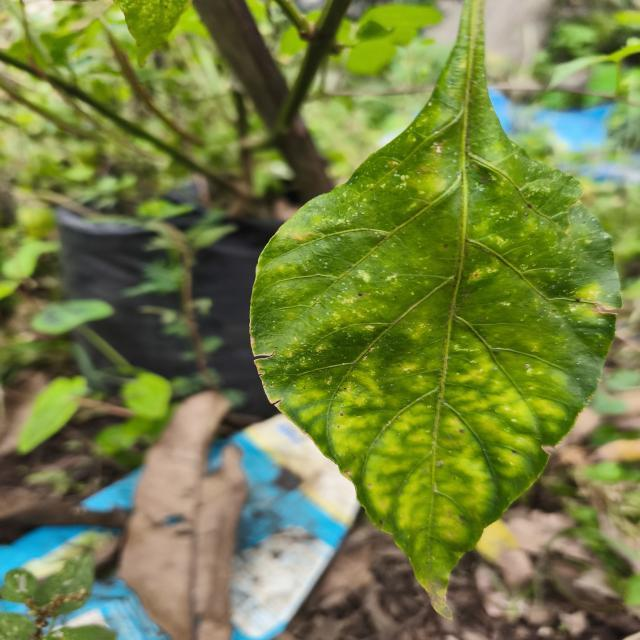Virus Kuning: (247, 68, 623, 619)
